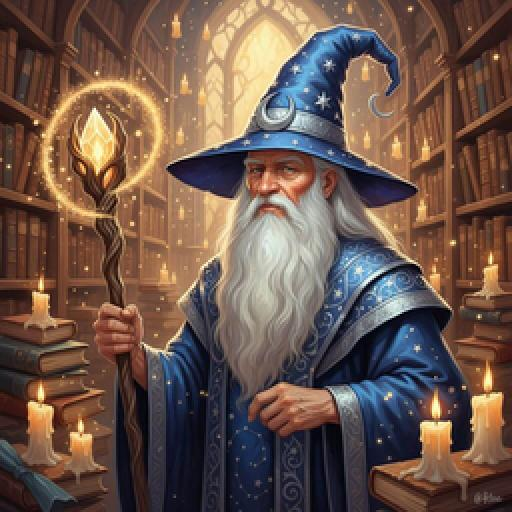wizards: (93, 26, 468, 505)
